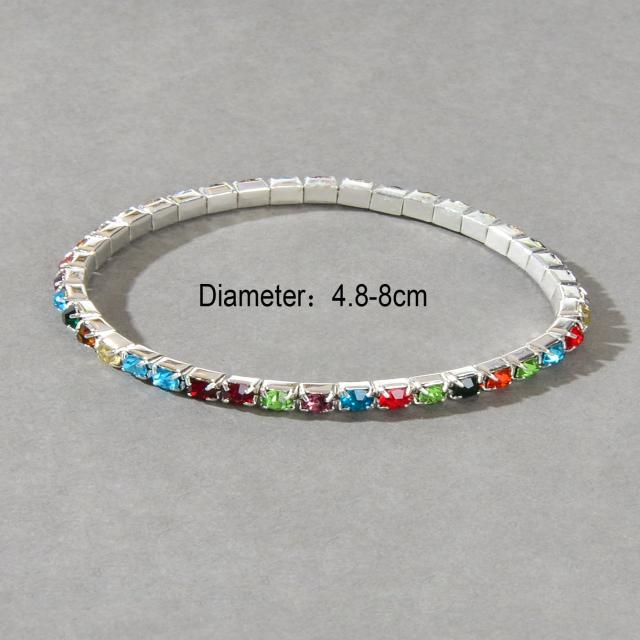bracelet: (19, 105, 640, 448)
